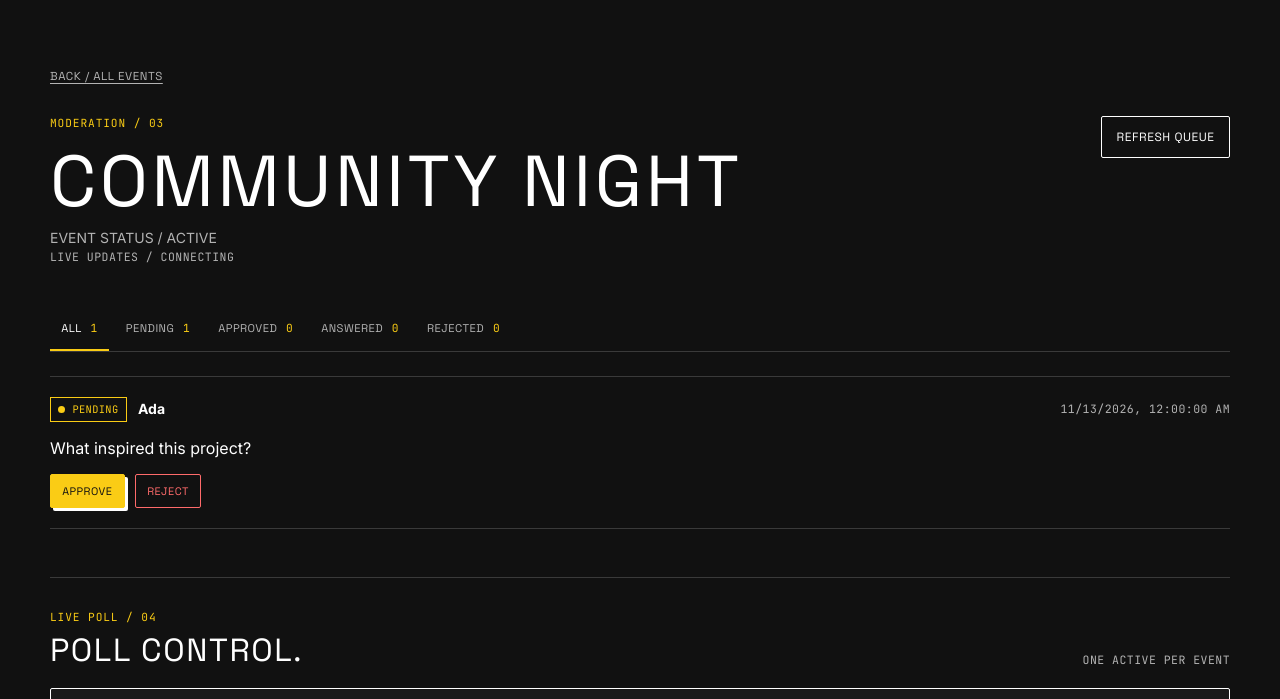
Test: ModerationPage › updates the queue after approving and answering a question
Click the button with aria-label "Approve question from Ada": (87, 492) [50, 474, 125, 508]
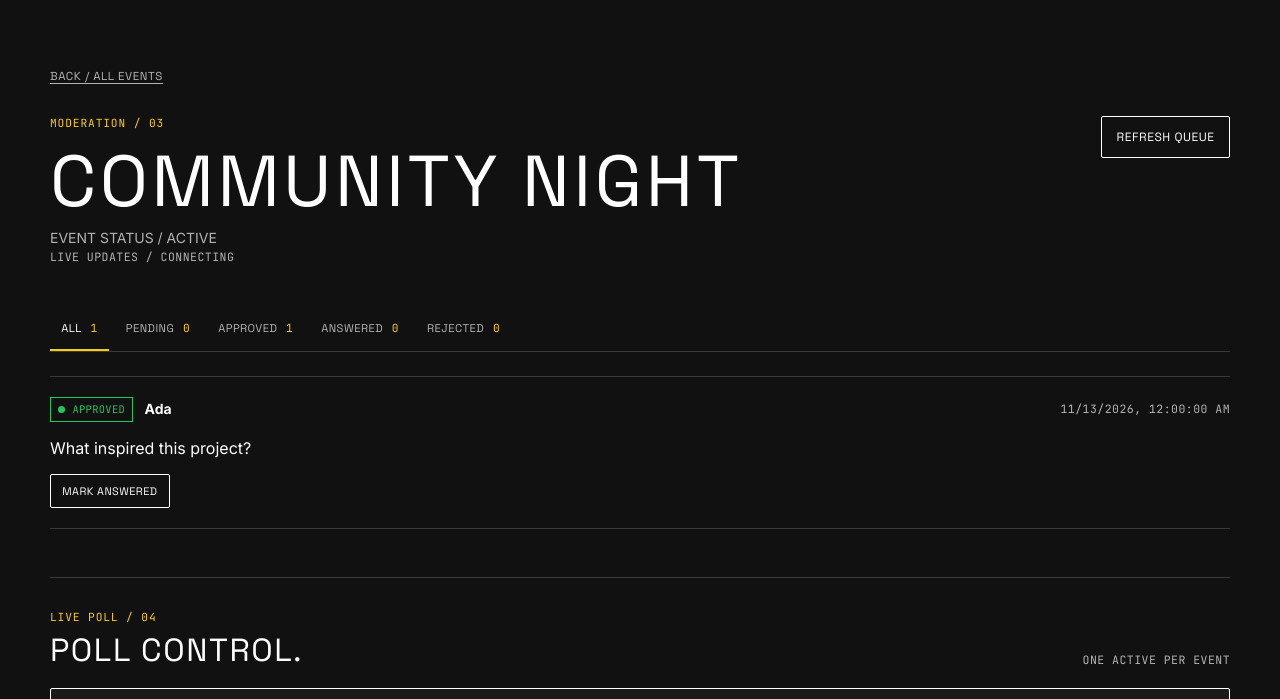
Click the button with aria-label "Mark question from Ada as answered": (110, 492) [50, 474, 170, 508]
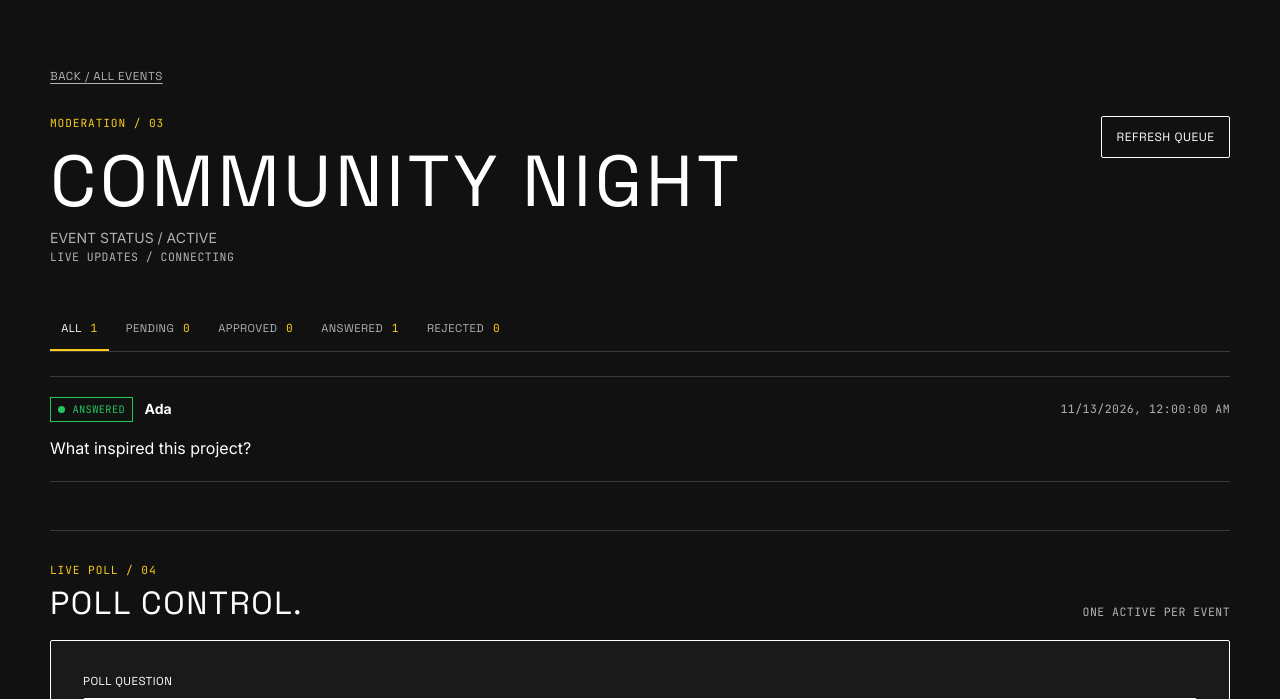
Expected: the text "ANSWERED" is shown, [50, 397, 133, 422]
